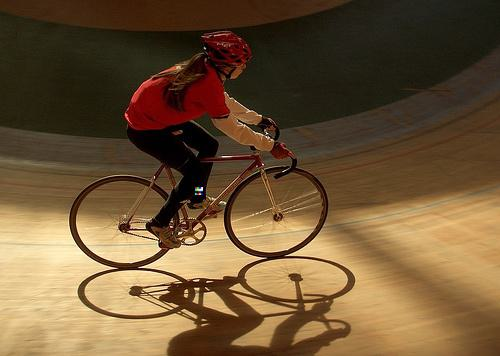car: (68, 114, 330, 269)
person: (125, 29, 288, 251)
